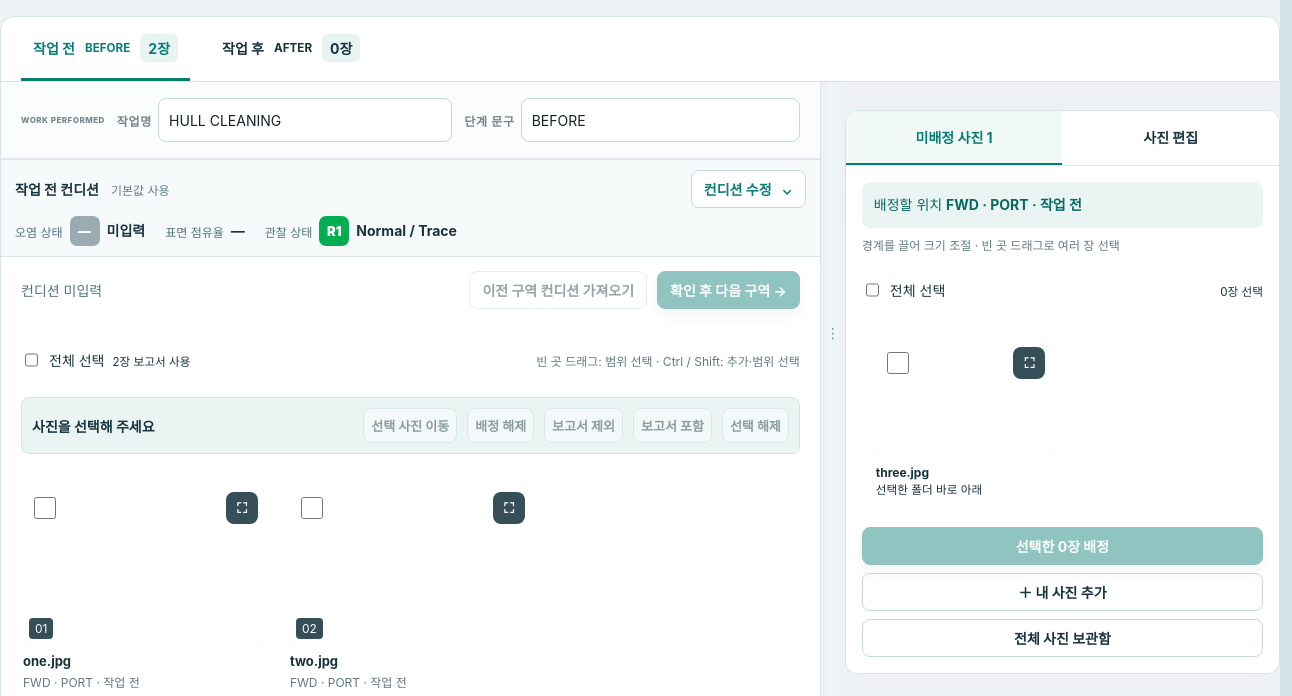
it: switches phase without losing editable work labels and shows only that phase
This screenshot has width=1292, height=696.
Replace the text in the field named "BEFORE 작업명" with "CUSTOM HULL" at (305, 120), box [158,98,452,142]
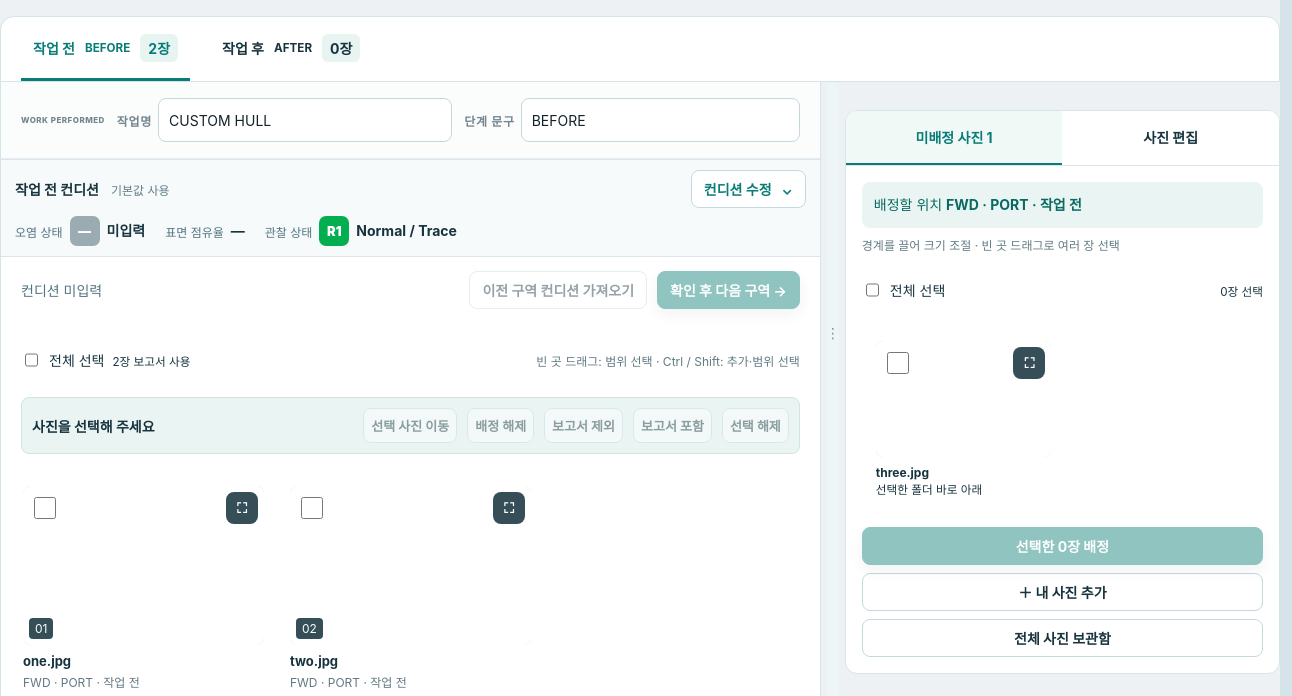
Replace the text in the field named "BEFORE 단계 문구" with "Prior to work" at (660, 120), box [521,98,800,142]
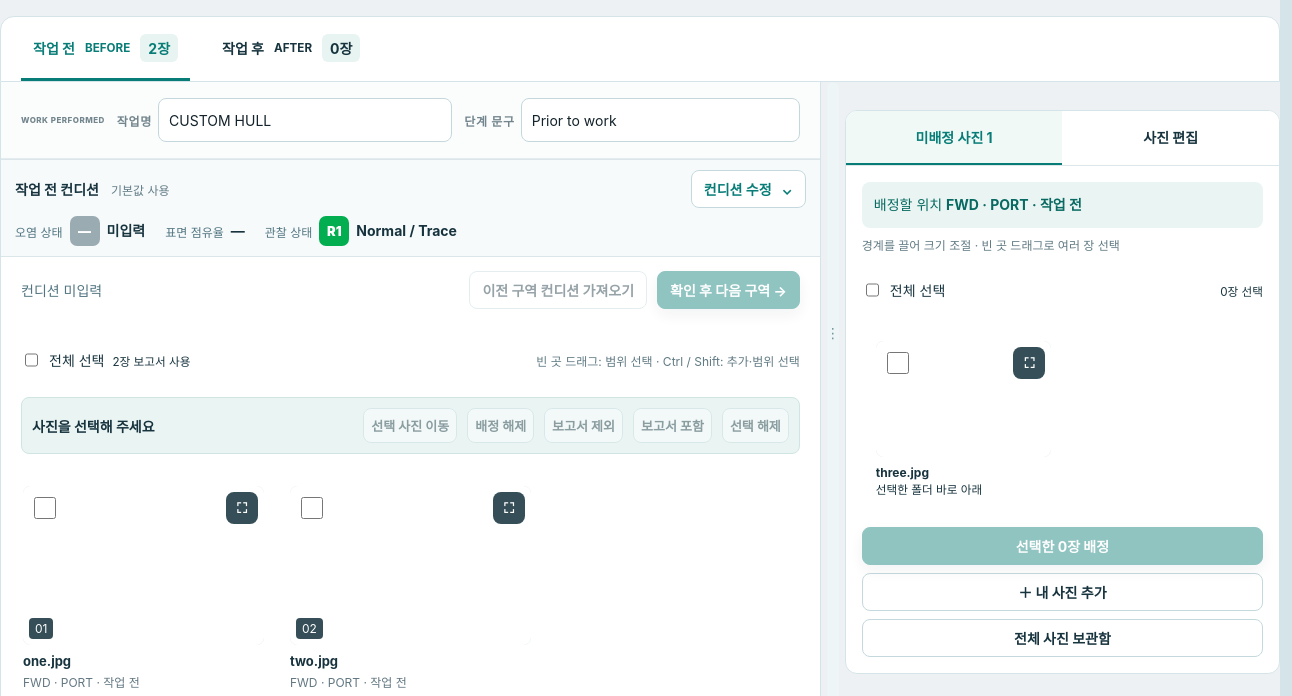
Click the tab "작업 후 AFTER 0장".
click(291, 49)  # box [210,17,372,81]
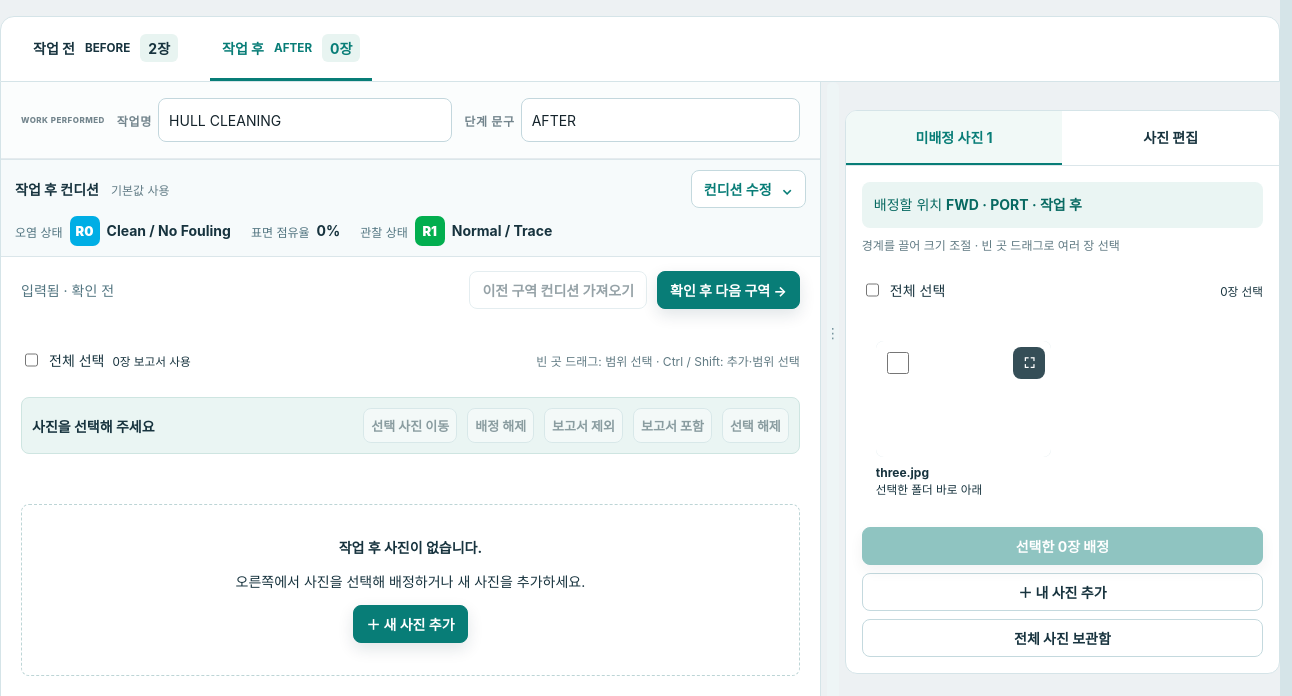
Check: the field named "AFTER 작업명" is shown, box [158,98,452,142]
Click the tab "작업 전 BEFORE 2장".
click(106, 49)  # box [21,17,190,81]
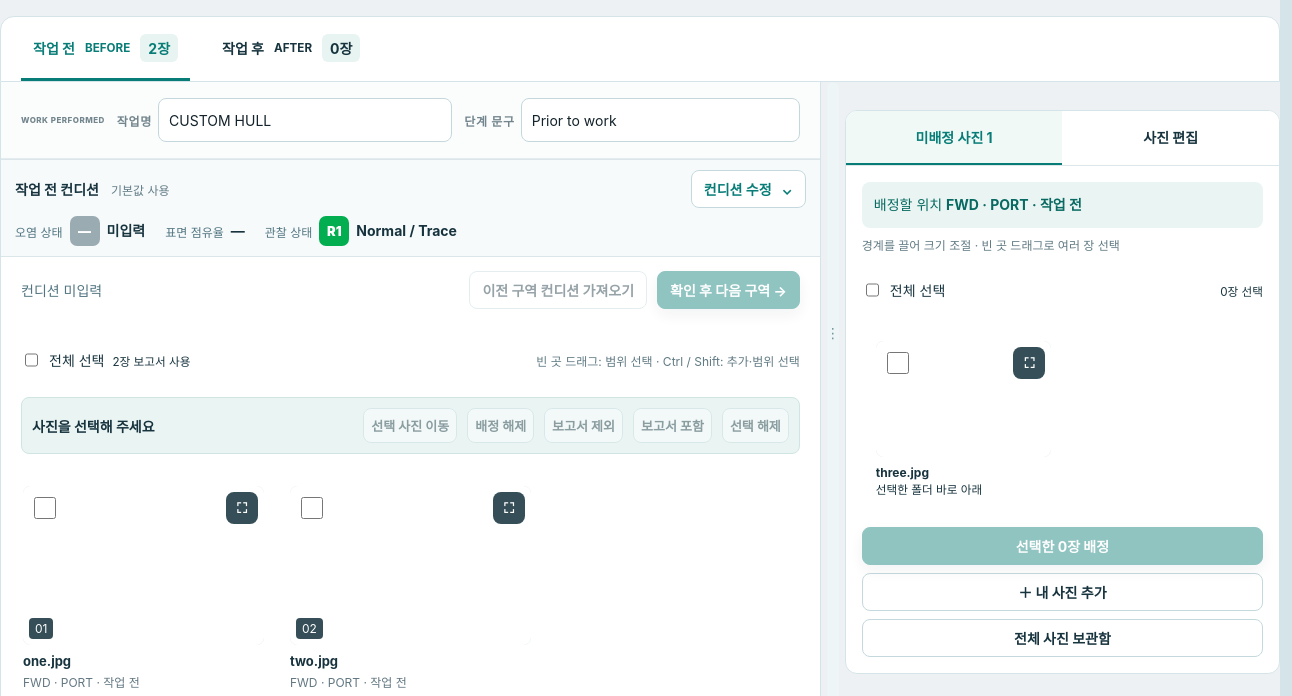
Check: the field named "BEFORE 작업명" holds "CUSTOM HULL", box [158,98,452,142]
Check: the field named "BEFORE 단계 문구" holds "Prior to work", box [521,98,800,142]
